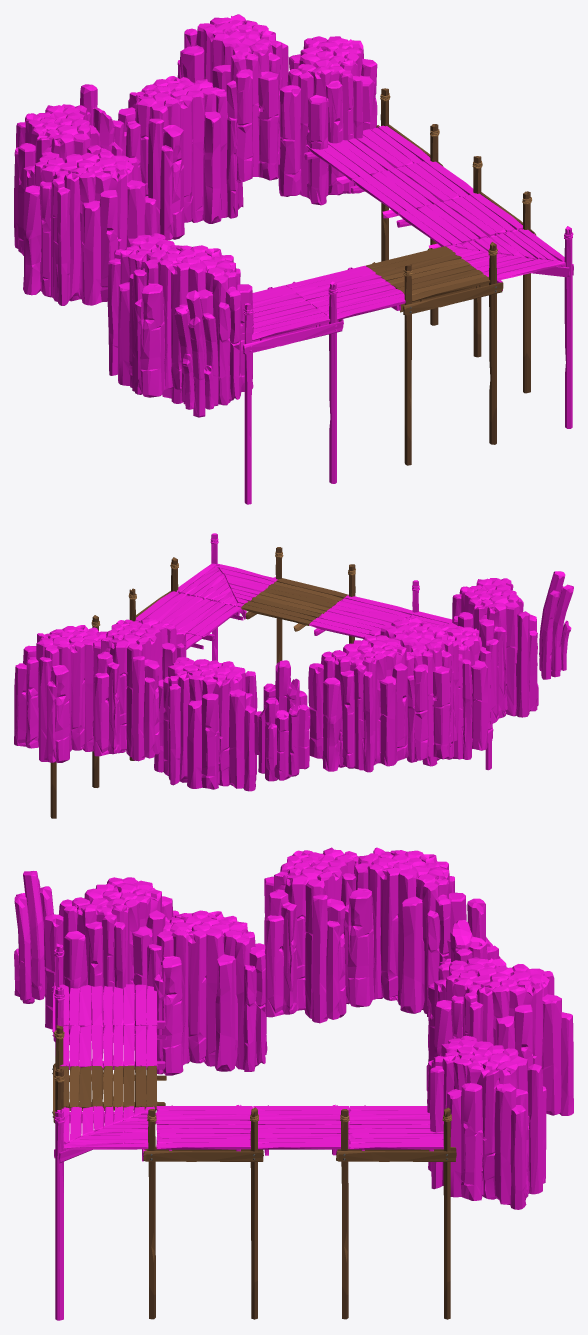
3 renders of one model, top to bottom at view 1: azimuth 30°, elevation 25°; view 2: azimuth 150°, elevation 25°; view 3: azimuth 270°, elevation 25°, orthographic. The views are drawn at different scales.
Parts seen in each view (by area): view 1: SM_Rock_Bazalt_D_Fantasy.006, SM_Rock_Bazalt_D_Fantasy.004, SM_Rock_Bazalt_D_Fantasy, SM_Rock_Bazalt_D_Fantasy.005, SM_Rock_Bazalt_D_Fantasy.003, SM_Rock_Bazalt_D_Fantasy.002, SM_Pier_Rope_Pillars_Fantasy.001, SM_Pier_Rope_Pillars_Fantasy, SM_Rock_Bazalt_C_Fantasy, SM_Pier_Base_Short_Fantasy.003, SM_Rock_Bazalt_D_Fantasy.001, SM_Pier_Base_Short_Fantasy.004 (+9 smaller); view 2: SM_Rock_Bazalt_D_Fantasy.002, SM_Rock_Bazalt_D_Fantasy.004, SM_Rock_Bazalt_D_Fantasy.003, SM_Rock_Bazalt_D_Fantasy.005, SM_Rock_Bazalt_D_Fantasy, SM_Rock_Bazalt_D_Fantasy.006, SM_Rock_Bazalt_B_Fantasy, SM_Rock_Bazalt_D_Fantasy.001, SM_Pier_Base_Short_Fantasy.001, SM_Pier_Base_Short_Fantasy.003, SM_Pier_Corner_Fantasy, SM_Rock_Bazalt_C_Fantasy (+6 smaller); view 3: SM_Rock_Bazalt_D_Fantasy.001, SM_Rock_Bazalt_D_Fantasy.005, SM_Rock_Bazalt_D_Fantasy.002, SM_Rock_Bazalt_D_Fantasy.006, SM_Rock_Bazalt_D_Fantasy.003, SM_Rock_Bazalt_D_Fantasy, SM_Pier_Rope_Pillars_Fantasy.003, SM_Pier_Rope_Pillars_Fantasy.002, SM_Pier_Base_Short_Fantasy.003, SM_Pier_Base_Short_Fantasy, SM_Pier_Base_Short_Fantasy.001, SM_Pier_Corner_Fantasy (+9 smaller).
Boxes of the visible parts, x1,y1,x2,y2 form: SM_Rock_Bazalt_D_Fantasy.006: (23, 151, 156, 305); SM_Rock_Bazalt_D_Fantasy.004: (118, 76, 243, 240); SM_Rock_Bazalt_D_Fantasy: (129, 244, 253, 405); SM_Rock_Bazalt_D_Fantasy.005: (278, 36, 377, 205); SM_Rock_Bazalt_D_Fantasy.003: (177, 14, 288, 183); SM_Rock_Bazalt_D_Fantasy.002: (14, 104, 111, 255); SM_Pier_Rope_Pillars_Fantasy.001: (241, 281, 343, 504); SM_Pier_Rope_Pillars_Fantasy: (400, 242, 503, 465); SM_Rock_Bazalt_C_Fantasy: (174, 290, 218, 417); SM_Pier_Base_Short_Fantasy.003: (396, 193, 522, 248); SM_Rock_Bazalt_D_Fantasy.001: (107, 233, 183, 403); SM_Pier_Base_Short_Fantasy.004: (350, 159, 474, 218); SM_Rock_Bazalt_D_Fantasy.002: (308, 635, 413, 772); SM_Rock_Bazalt_D_Fantasy.004: (154, 657, 257, 791); SM_Rock_Bazalt_D_Fantasy.003: (92, 617, 186, 761); SM_Rock_Bazalt_D_Fantasy.005: (14, 625, 125, 762); SM_Rock_Bazalt_D_Fantasy: (452, 578, 538, 723); SM_Rock_Bazalt_D_Fantasy.006: (369, 617, 458, 762); SM_Rock_Bazalt_B_Fantasy: (254, 660, 309, 781); SM_Rock_Bazalt_D_Fantasy.001: (422, 623, 493, 766); SM_Pier_Base_Short_Fantasy.001: (241, 578, 347, 631); SM_Pier_Base_Short_Fantasy.003: (135, 591, 243, 641); SM_Pier_Corner_Fantasy: (176, 563, 277, 619); SM_Rock_Bazalt_C_Fantasy: (539, 571, 573, 679); SM_Rock_Bazalt_D_Fantasy.001: (134, 910, 267, 1075); SM_Rock_Bazalt_D_Fantasy.005: (427, 1035, 546, 1209); SM_Rock_Bazalt_D_Fantasy.002: (341, 847, 466, 1016); SM_Rock_Bazalt_D_Fantasy.006: (264, 847, 361, 1023); SM_Rock_Bazalt_D_Fantasy.003: (434, 964, 573, 1115); SM_Rock_Bazalt_D_Fantasy: (44, 877, 179, 1044); SM_Pier_Rope_Pillars_Fantasy.003: (336, 1107, 456, 1319); SM_Pier_Rope_Pillars_Fantasy.002: (143, 1107, 263, 1319); SM_Pier_Base_Short_Fantasy.003: (156, 1105, 252, 1151); SM_Pier_Base_Short_Fantasy: (59, 1025, 166, 1069); SM_Pier_Base_Short_Fantasy.001: (58, 1065, 166, 1110); SM_Pier_Corner_Fantasy: (54, 1106, 156, 1163).
Size of the model in its own units: 5.3 by 3.23 by 5.81.
